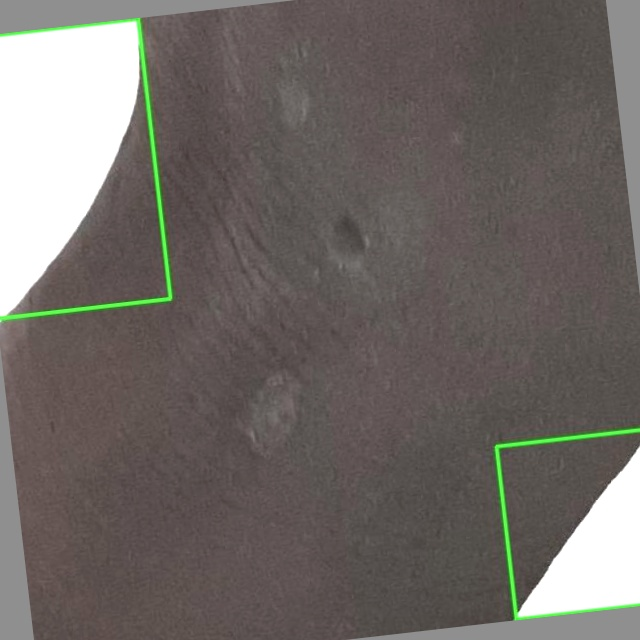Eczema: (0, 18, 170, 318), (496, 429, 639, 619)
